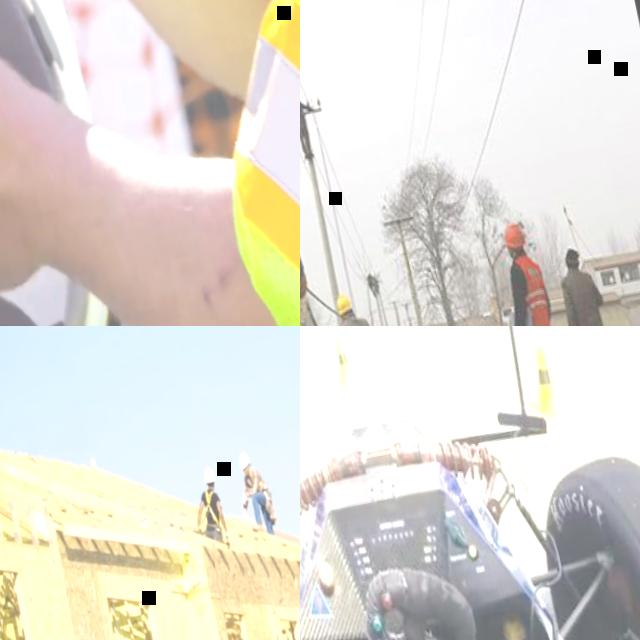Hardhat: (0, 0, 142, 326), (498, 221, 527, 251), (333, 294, 353, 317), (237, 452, 251, 470), (202, 468, 215, 485)
NO-Hardhat: (561, 246, 582, 270)
NO-Mask: (244, 470, 249, 477)
NO-Safety Vest: (561, 271, 604, 326), (200, 488, 221, 529), (244, 467, 267, 495), (300, 97, 304, 121)
Person: (0, 0, 300, 326), (491, 219, 575, 326), (548, 243, 626, 326), (229, 449, 278, 539), (187, 467, 230, 548), (330, 290, 399, 326), (300, 84, 319, 162)
Safety Cone: (521, 346, 566, 410), (323, 332, 360, 379)
Safety Vest: (143, 0, 300, 326), (511, 255, 554, 326)
vehicle: (300, 326, 640, 640)
